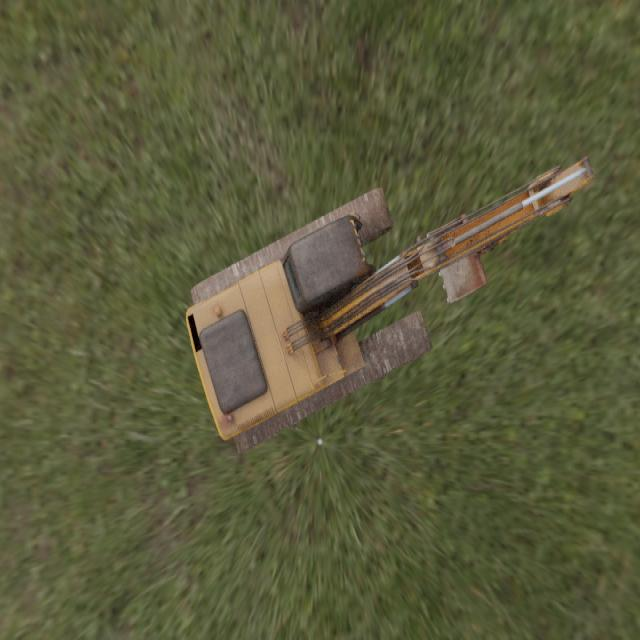excavator: (185, 155, 596, 453)
